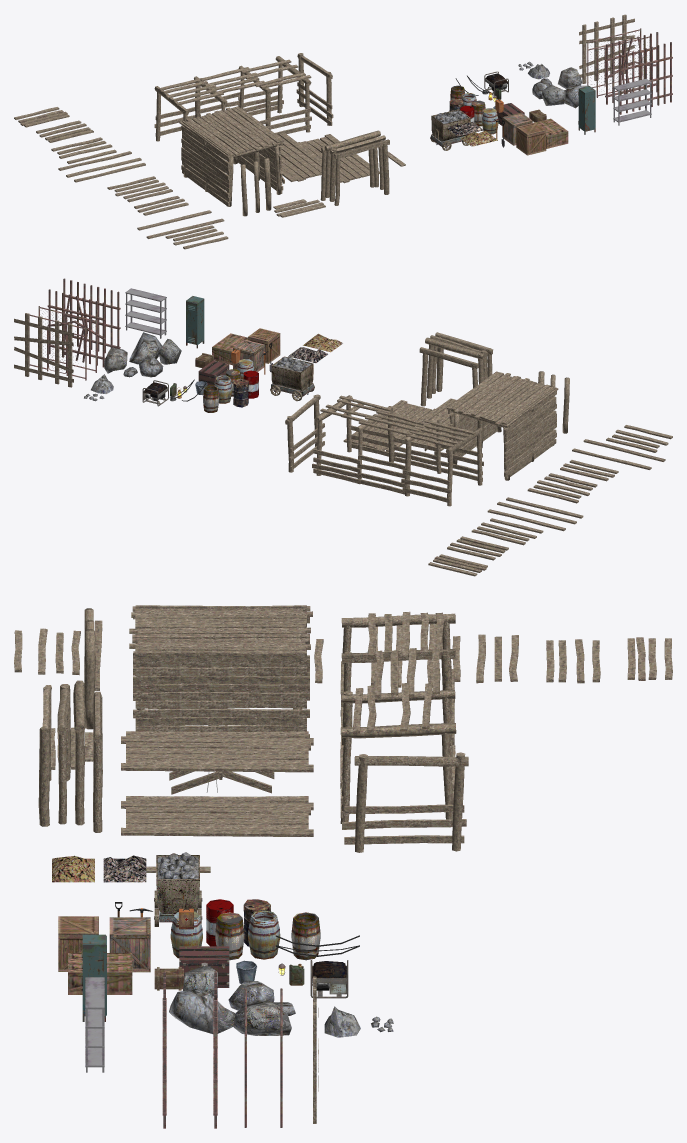
3 views of the same model, one above another, from view 1: azimuth 30°, elevation 25°; view 2: azimuth 150°, elevation 25°; view 3: azimuth 270°, elevation 25° (orthographic). The views are drawn at different scales.
Visible parts, largest first — view 1: Tb_01.006, Wood_M.001, Fence_04, Wood_P_01, Fence, Fence_01, Wood_P, Shelving, Wood_M_08.001, Wood_B_01, Wood_T_03, Box_Wood_01 (+20 smaller); view 2: Wood_M.001, Tb_01.006, Fence_04, Fence_01, Fence, Shelving, Wagon, Wood_M_08.001, Wood_P, Wood_T_03, Wood_T_06, Wood_T_05 (+19 smaller); view 3: Tb_01.006, Wood_M.001, Wood_P_01, Wood_P, Wood_M_08.001, Rock, Wagon, Box_Wood, Shelving, Box_Wood_02, Wood_B_02, Rock_02 (+22 smaller).
Part boxes in pixels (<box>): Tb_01.006: <box>179,106,284,206</box>; Wood_M.001: <box>154,56,311,141</box>; Fence_04: <box>579,14,634,83</box>; Wood_P_01: <box>278,132,321,183</box>; Fence: <box>618,42,672,114</box>; Fence_01: <box>605,32,658,104</box>; Wood_P: <box>298,134,379,183</box>; Shelving: <box>613,78,651,125</box>; Wood_M_08.001: <box>296,53,333,125</box>; Wood_B_01: <box>334,139,389,205</box>; Wood_T_03: <box>107,176,172,202</box>; Box_Wood_01: <box>516,122,546,155</box>; Wood_M.001: <box>312,395,483,506</box>; Tb_01.006: <box>446,371,558,480</box>; Fence_04: <box>14,313,73,387</box>; Fence_01: <box>47,289,105,367</box>; Fence: <box>63,278,120,353</box>; Shelving: <box>125,288,166,338</box>; Wagon: <box>270,356,314,401</box>; Wood_M_08.001: <box>285,394,325,472</box>; Wood_P: <box>343,400,434,451</box>; Wood_T_03: <box>527,473,597,503</box>; Wood_T_06: <box>487,497,583,531</box>; Wood_T_05: <box>471,518,543,545</box>; Tb_01.006: <box>129,605,312,737</box>; Wood_M.001: <box>340,611,456,827</box>; Wood_P_01: <box>121,731,313,794</box>; Wood_P: <box>121,796,313,836</box>; Wood_M_08.001: <box>342,752,468,852</box>; Rock: <box>169,988,235,1033</box>; Wagon: <box>154,855,202,926</box>; Box_Wood: <box>109,917,150,972</box>; Shelving: <box>85,977,104,1072</box>; Box_Wood_02: <box>68,953,132,994</box>; Wood_B_02: <box>57,684,71,824</box>; Rock_02: <box>233,1001,291,1035</box>.
Size of the model in its own units: 3233 by 373 by 1825.
